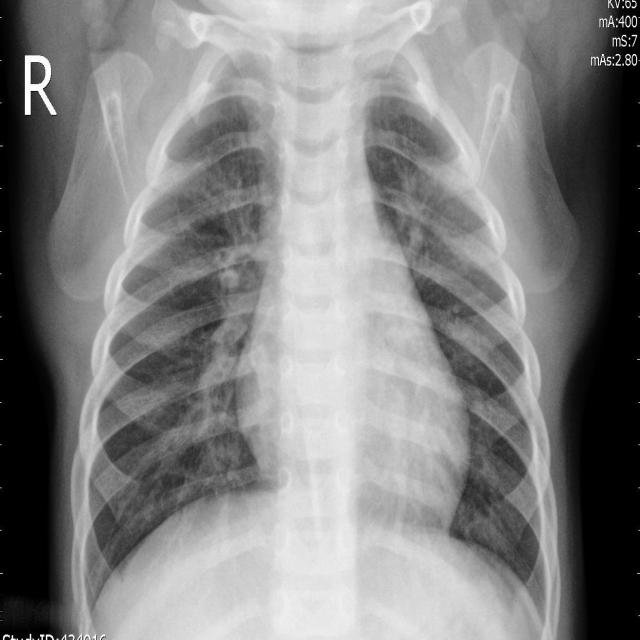high-pneumonia: (346, 39, 428, 147), (203, 42, 277, 160)
low-pneumonia: (188, 212, 268, 483), (400, 161, 475, 293)
